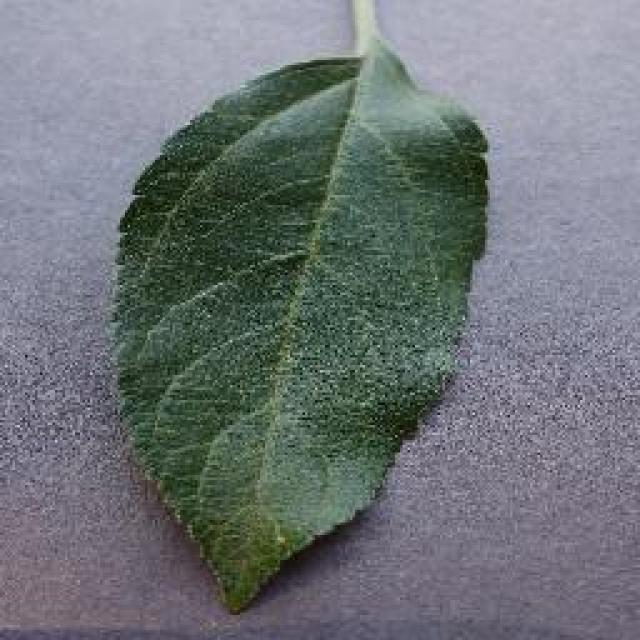apple healthy: (105, 0, 492, 612)
